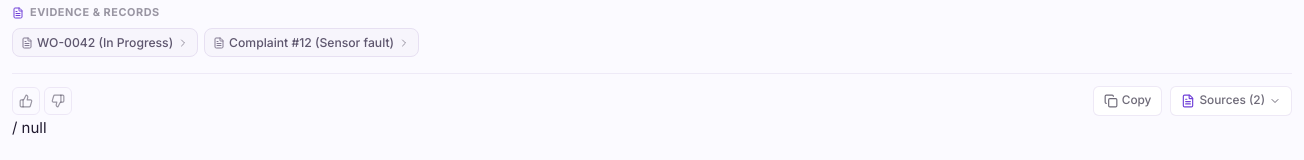
Test: AiAnswerRenderer › links authorized source citations to their existing record views
Click the link with aria-label "open work order 42". click: {"x": 105, "y": 43}
box: [12, 28, 198, 58]
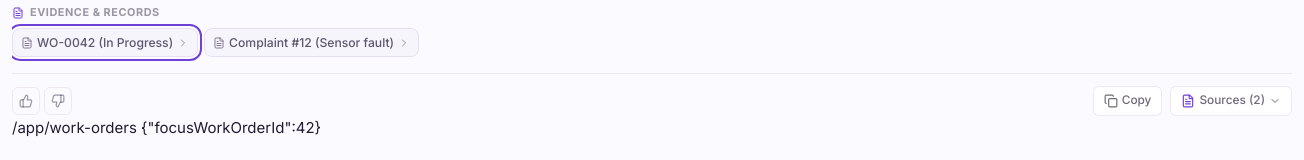
Expected: the text with test id "location" reads "/app/work-orders {\"focusWorkOrderId\":42}", [12, 118, 321, 137]
Click the link with aria-label "open complaint 12". click: {"x": 312, "y": 43}
box: [204, 28, 419, 58]
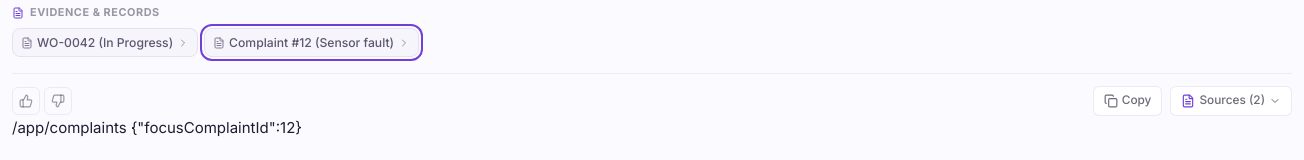
Expected: the text with test id "location" reads "/app/complaints {\"focusComplaintId\":12}", [12, 118, 302, 137]
